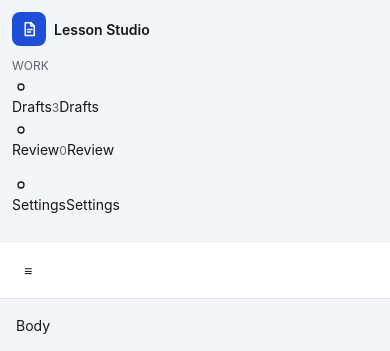
Test case: AppShell › toggles the mobile menu
Click the button named "Menu" at (28, 270), box [16,256,40,285]
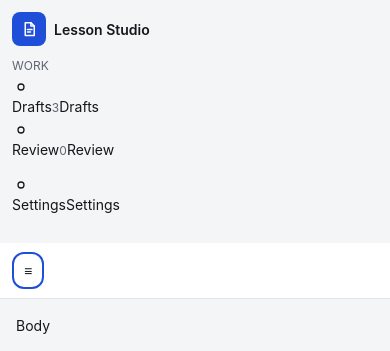
Check: the button named "Menu" is expanded, box [16,256,40,285]
